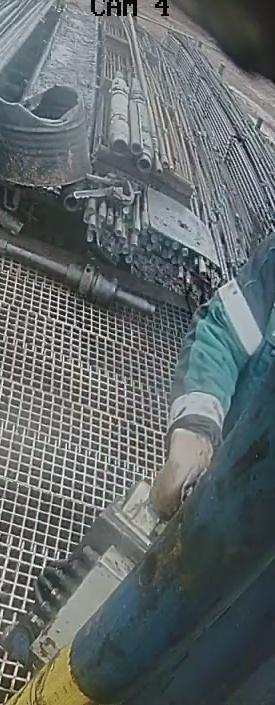gloves: (147, 424, 215, 520)
